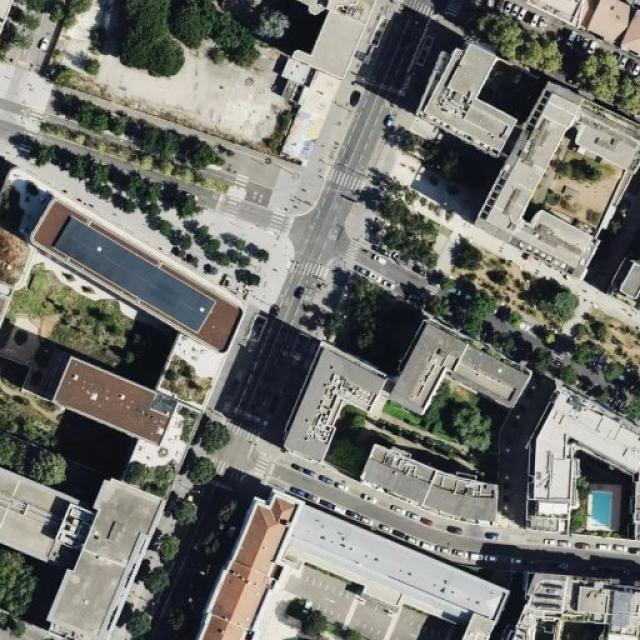immeuble: (0, 387, 201, 640), (0, 140, 245, 340), (441, 57, 640, 260), (220, 502, 506, 640), (0, 225, 182, 435), (0, 471, 153, 640), (530, 388, 640, 526), (378, 300, 528, 400), (282, 324, 386, 452), (353, 462, 498, 534), (533, 578, 640, 640), (156, 314, 225, 398), (283, 0, 377, 49), (0, 251, 14, 383), (1, 1, 1, 1), (0, 1, 1, 1), (1, 0, 1, 1)
piscine: (580, 479, 617, 542)
